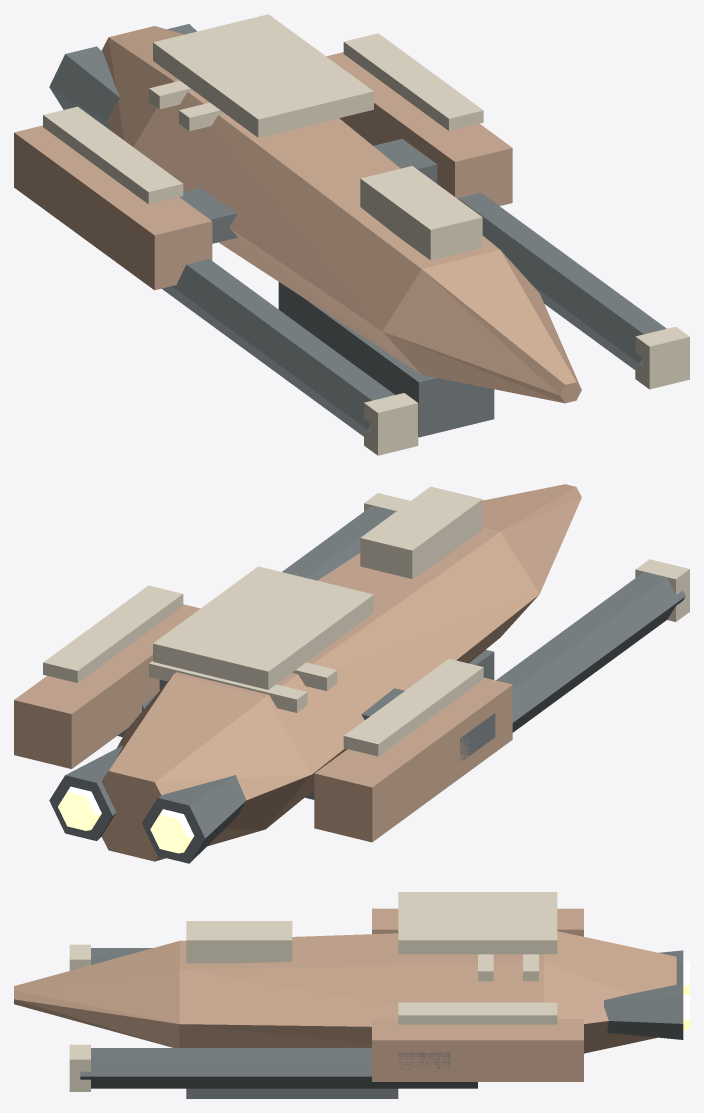
3 renders of one model, top to bottom at view 1: azimuth 30°, elevation 25°; view 2: azimuth 150°, elevation 25°; view 3: azimuth 270°, elevation 25°, orthographic. The views are drawn at different scales.
Size of the model in its own units: 2.33 by 1.37 by 5.05.
